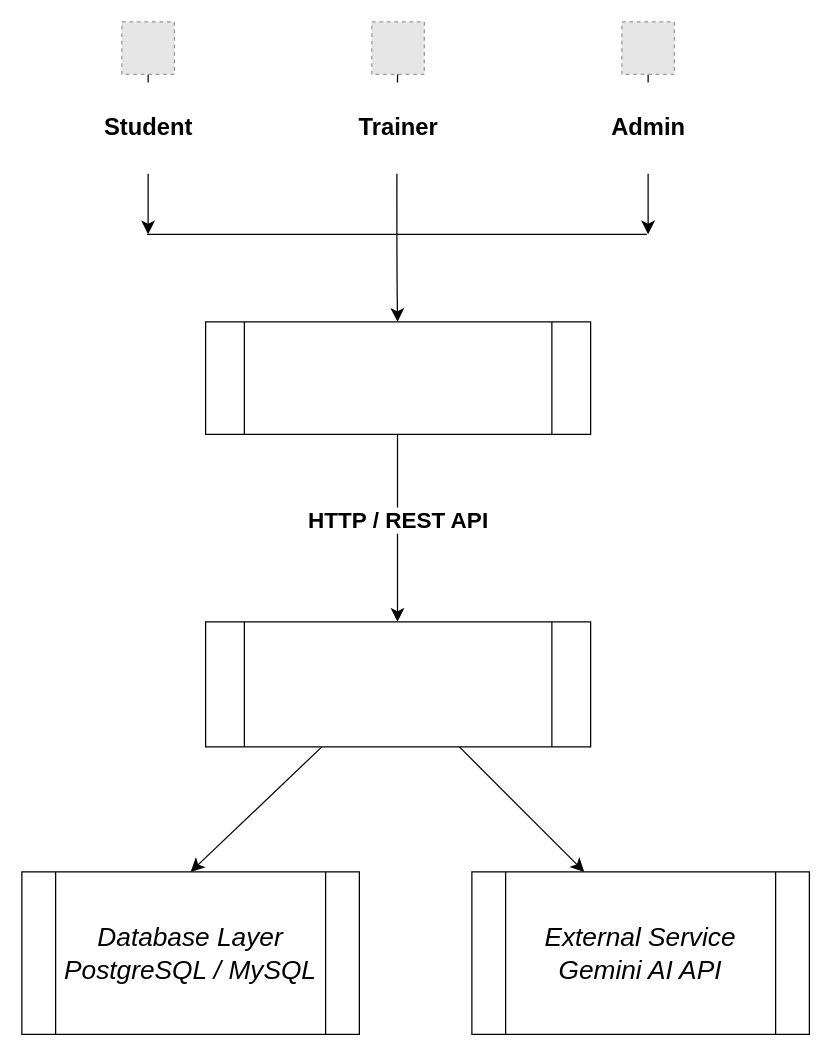
Image size: 831x1056. Some labels were removed from this diagram. Grey dashed boxes stand in for pictures. Here are the shapes that lost their labels. From the top down, the centre of each, then its label:
At (397,377): "CLIENT LAYER React.js Frontend".
At (397,684): "BACKEND / API LAYER FastAPI Backend".
